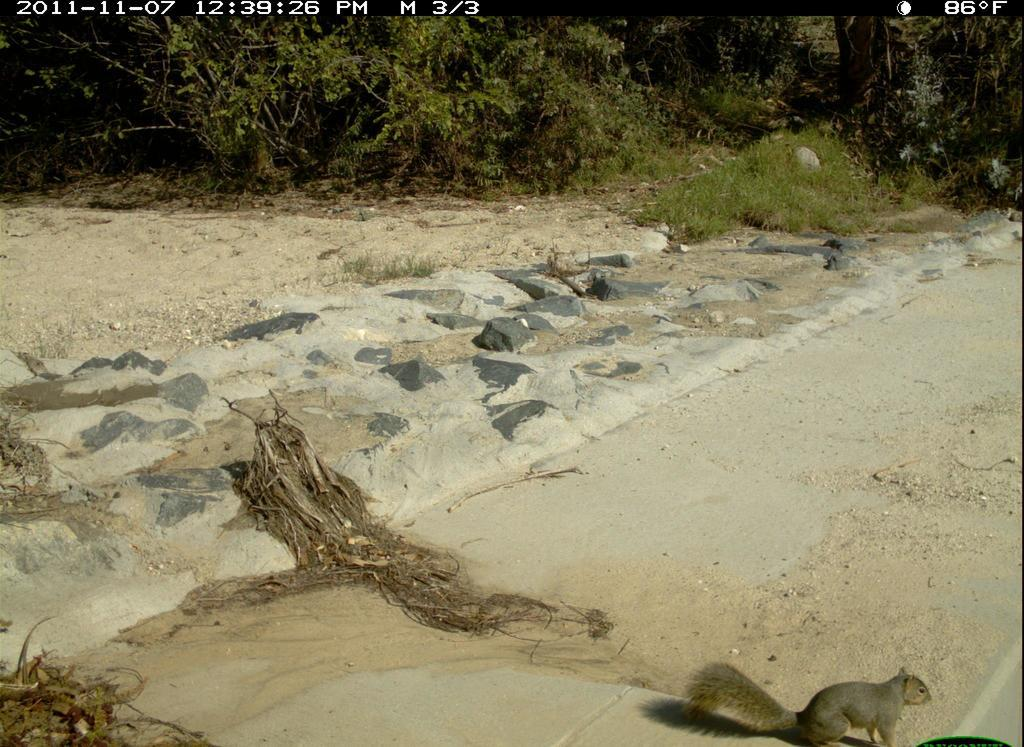squirrel: (680, 658, 934, 747)
